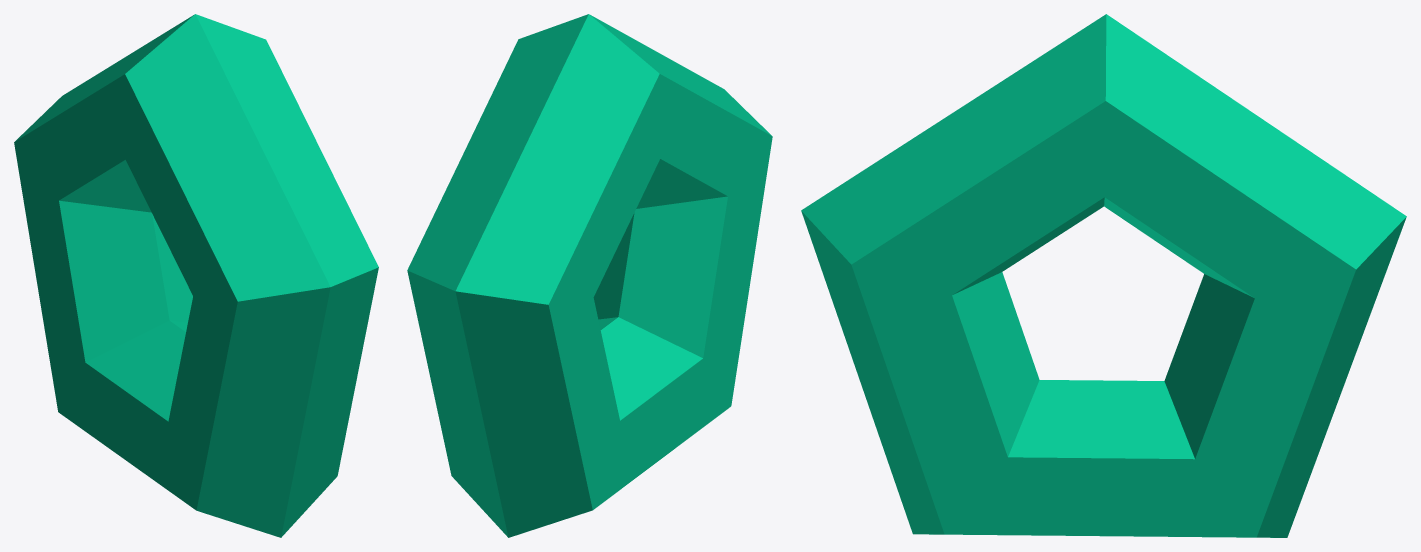
The model's file is cursor.obj.
3 views of the same model, side by side, from view 1: azimuth 30°, elevation 25°; view 2: azimuth 150°, elevation 25°; view 3: azimuth 270°, elevation 25° (orthographic). The views are drawn at different scales.
Visible parts, largest first — view 1: Torus; view 2: Torus; view 3: Torus.
Boxes of the visible parts, bbox=[...] form: Torus: bbox=[14, 14, 378, 537]; Torus: bbox=[407, 14, 772, 537]; Torus: bbox=[801, 14, 1406, 537].
Bounding box in the file's own units: 0.0173 × 0.0545 × 0.0571.
